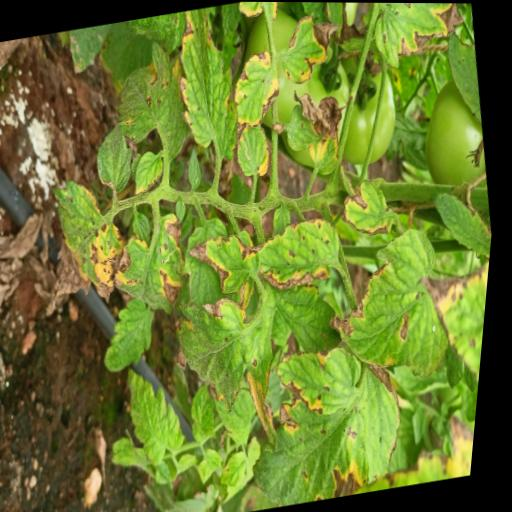Early Blight: (243, 356, 428, 510), (317, 218, 470, 393), (164, 287, 301, 466), (36, 167, 146, 312), (160, 3, 253, 162), (104, 30, 201, 172), (106, 206, 205, 322), (254, 207, 358, 295), (274, 334, 375, 422), (360, 2, 472, 72), (185, 222, 274, 303), (272, 6, 352, 85), (226, 48, 290, 131), (335, 169, 407, 241), (129, 146, 172, 197)
Leaf_Miner: (242, 132, 259, 163)
